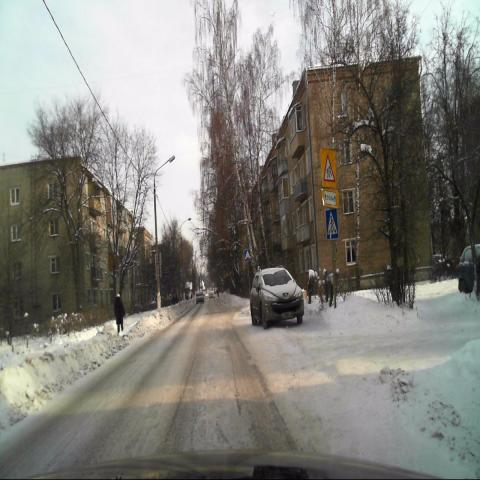1_23: (320, 148, 337, 187)
5_19_1: (325, 209, 339, 240)
5_20: (244, 249, 251, 261)
8_2_1: (321, 188, 339, 208)
